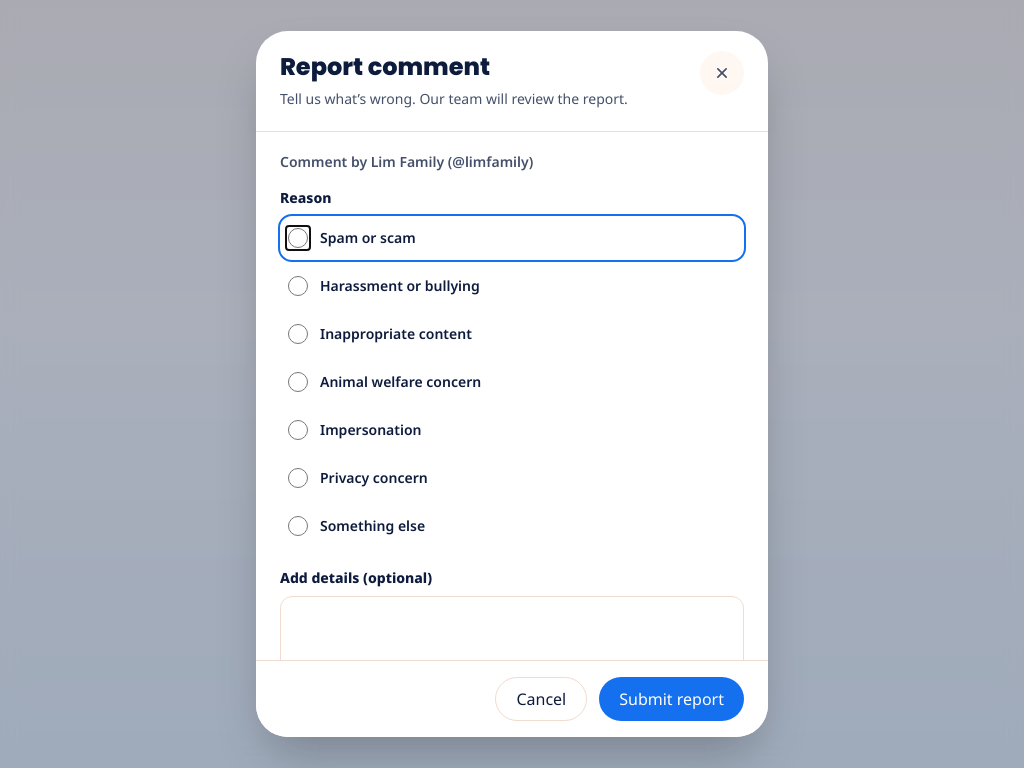
Test: Community report dialog › handles own without showing a technical code
Click the radio button labelled "Spam or scam". click: (298, 238)
box: [288,228,308,248]
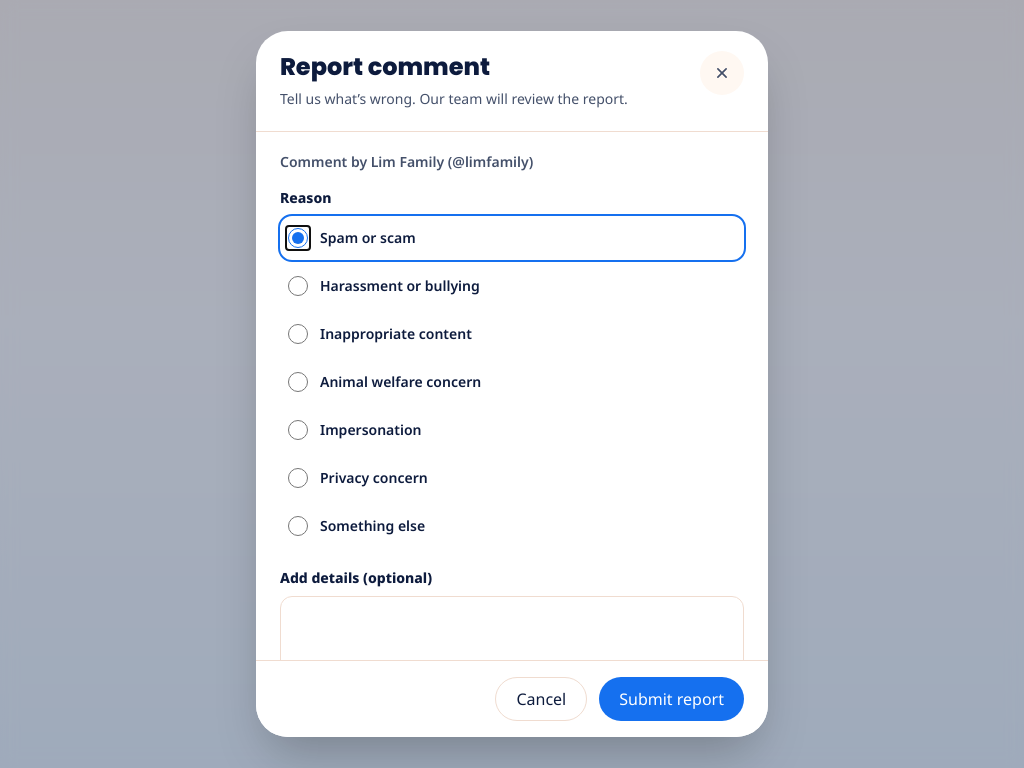
Click the button "Submit report". click: (672, 699)
box: [599,677,744,721]
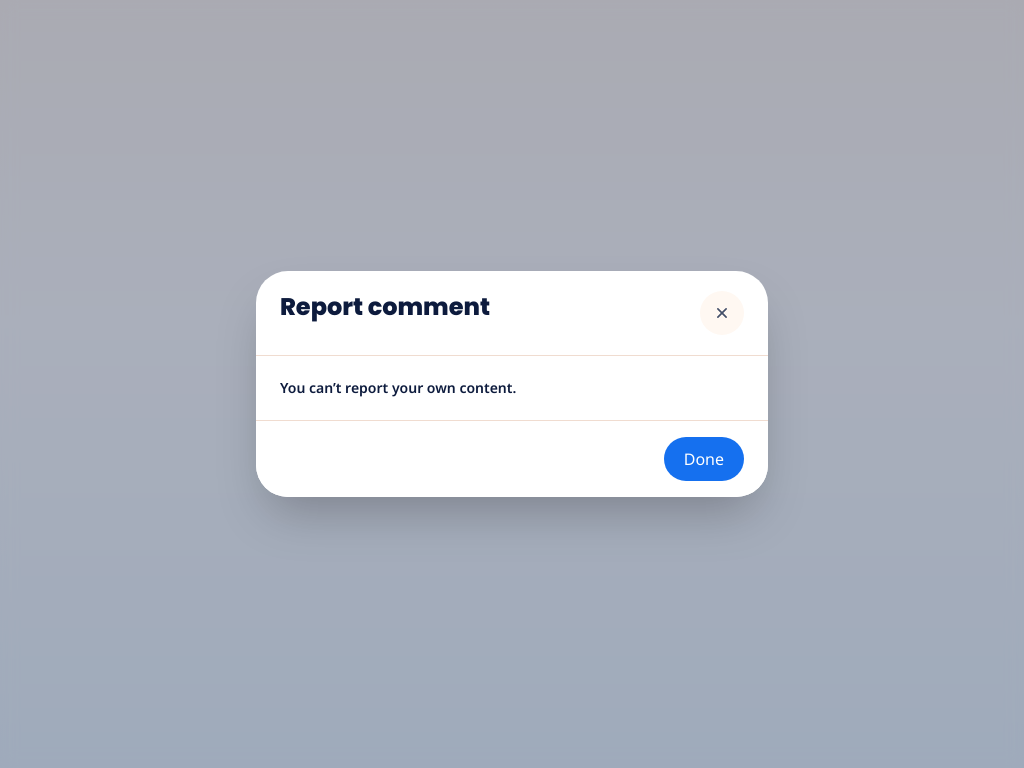
Now the text "You can’t report your own content." is shown, box [280,378,516,397]
